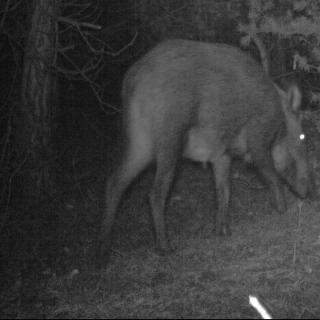Pig: (70, 7, 320, 267)
